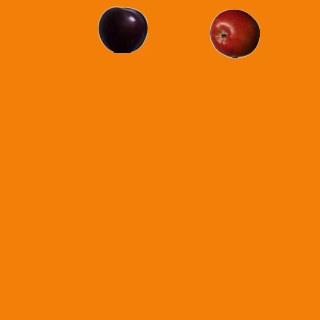Apple Braeburn: (209, 8, 259, 58)
Cherry Wax Black: (97, 4, 147, 54)
